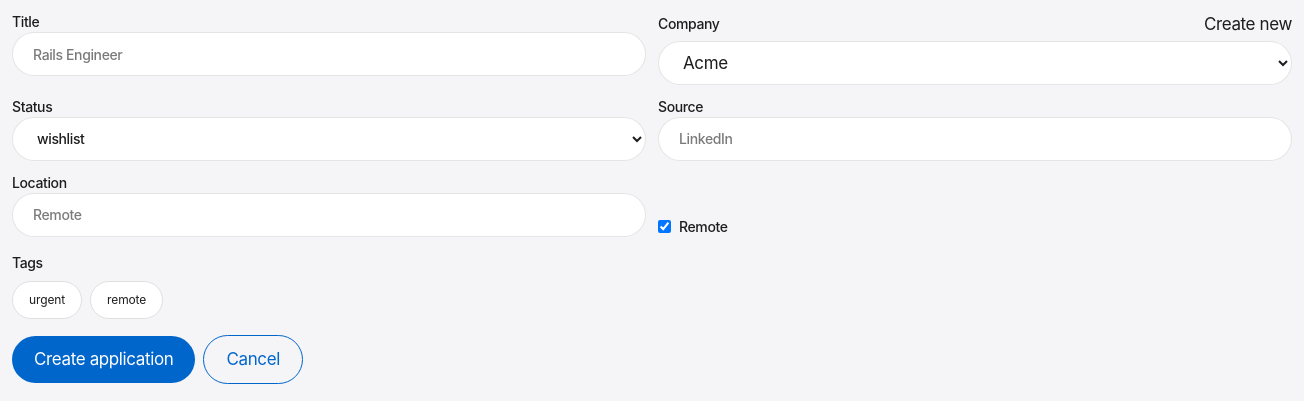
it: CreateApplicationForm › shows validation errors before submitting
Click the button "Create application" at (104, 360), box [12,336,196,383]
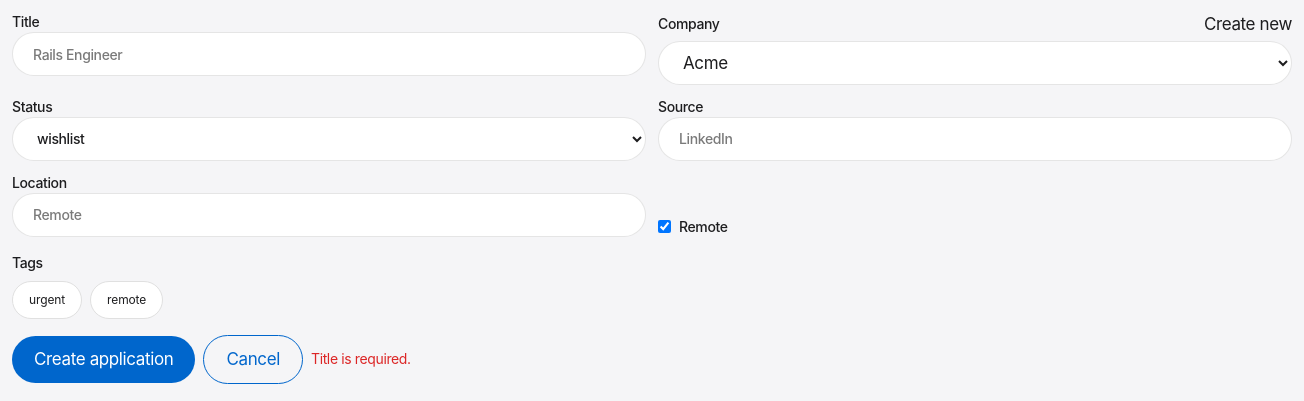
Expected: the text "Title is required." is shown, [311,350,411,370]
